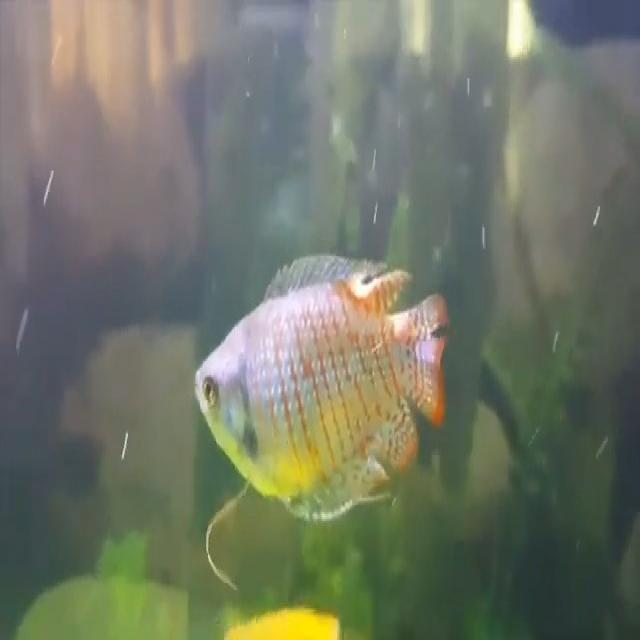fish: (194, 254, 453, 522)
